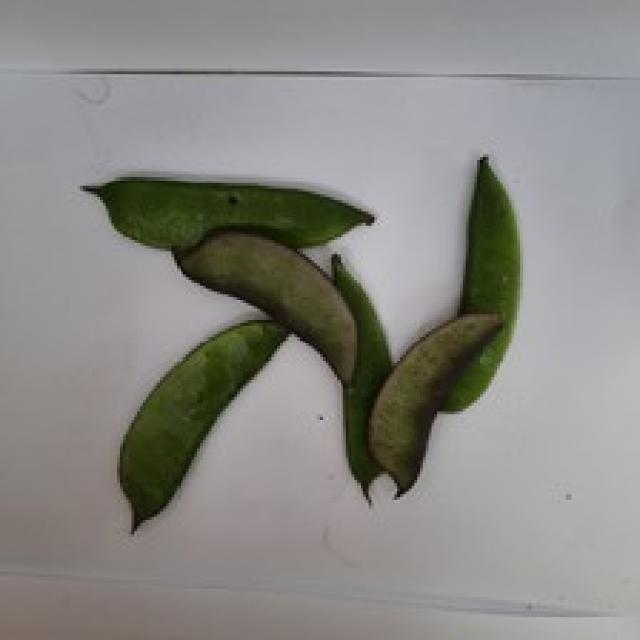Bean: (115, 317, 292, 532), (169, 223, 357, 386), (366, 309, 503, 497), (437, 152, 520, 412), (328, 251, 392, 503)
